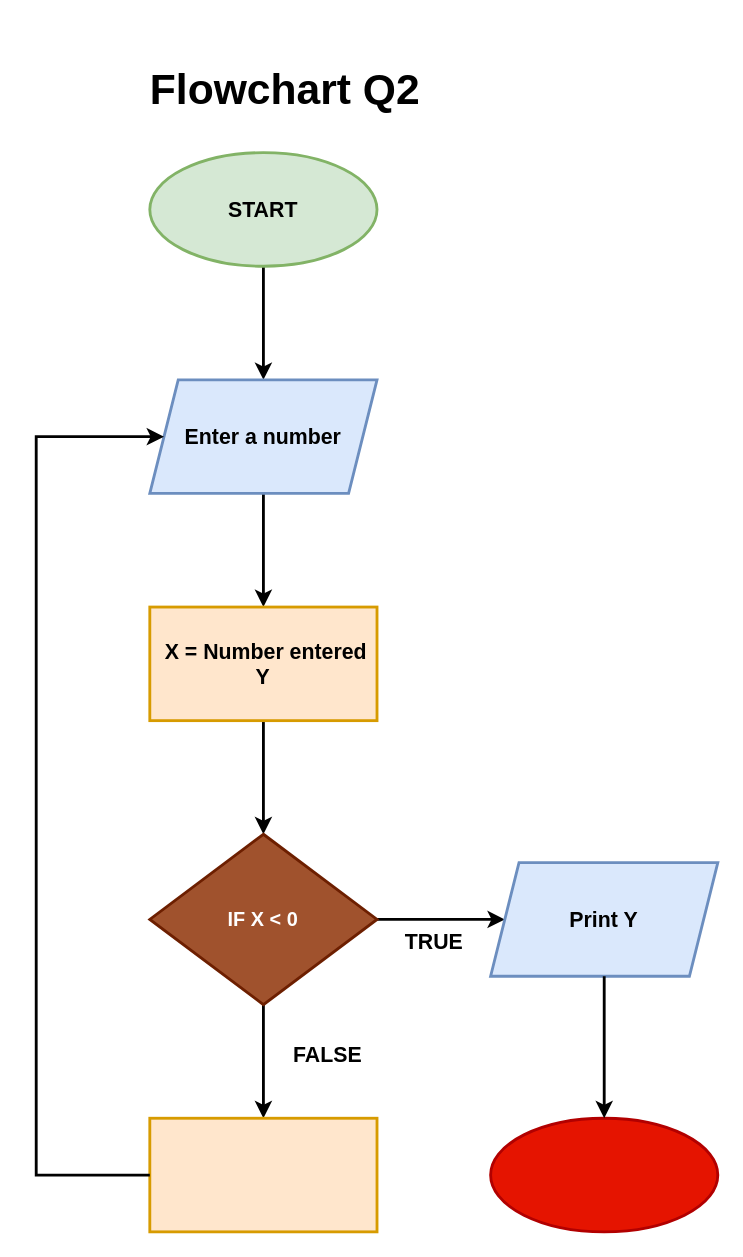
Some shapes in this 743 by 1257 pixel diagram are drawn without their labels. The shapes that lost their labels are listed below. From the top down, each one's box as (x1, y1, x2, y2) in pixels, then its label:
(148, 1116, 378, 1233): Store X inside Y Y = X
(488, 1116, 719, 1233): STOP
